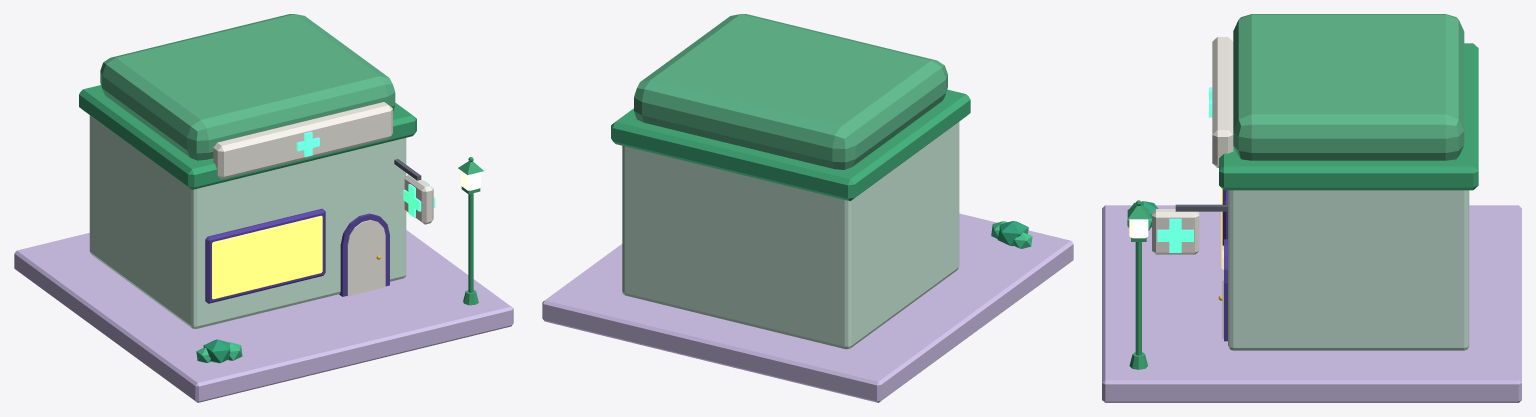
File: bld_pharmacy.glb
The picture shows the model from 3 angles, left to right: view 1: azimuth 30°, elevation 25°; view 2: azimuth 150°, elevation 25°; view 3: azimuth 270°, elevation 25°; orthographic projection. The views are drawn at different scales.
Visible parts, largest first — view 1: bld_pharmacy; view 2: bld_pharmacy; view 3: bld_pharmacy.
Part boxes in pixels (bbox=[...]): bld_pharmacy: bbox=[14, 14, 513, 402]; bld_pharmacy: bbox=[542, 14, 1073, 402]; bld_pharmacy: bbox=[1102, 14, 1521, 402].
Size of the model in its own units: 8 by 5.28 by 8.
